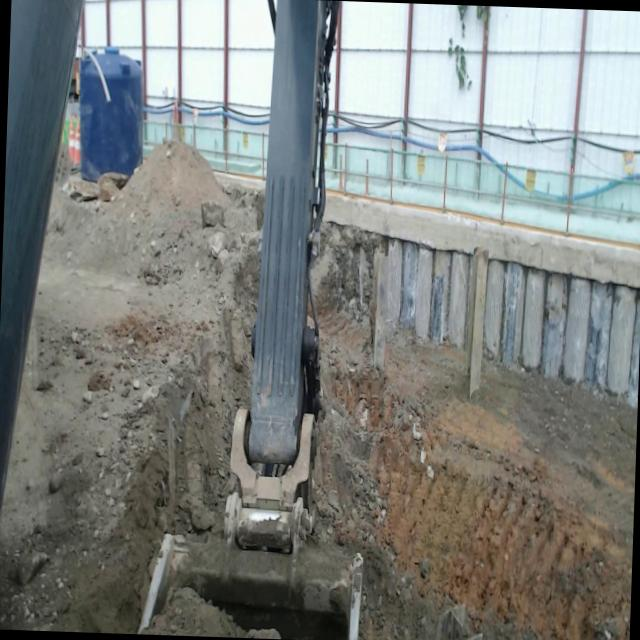cement: (325, 191, 640, 288)
red-sand: (312, 223, 637, 640), (0, 141, 263, 634)
